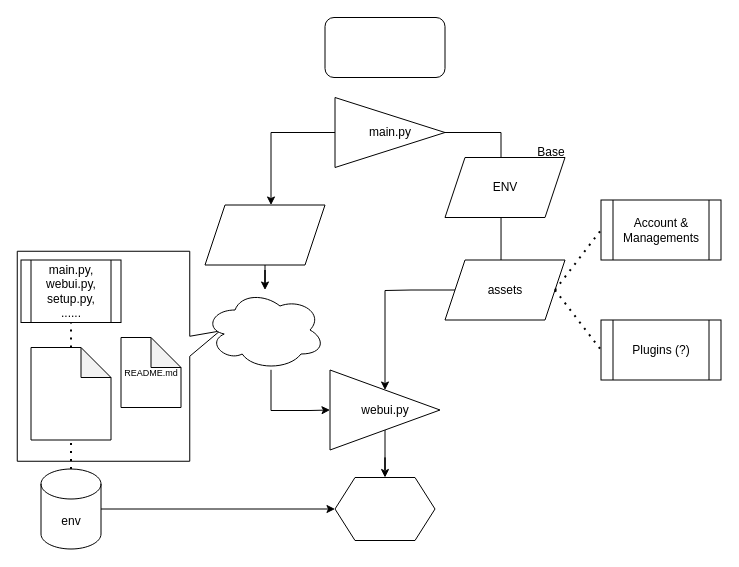
Some shapes in this 739 by 567 pixel diagram are drawn without their labels. Each missing label, with the box of its shape:
ColabStation: (324, 16, 445, 78)
Collection: (204, 204, 325, 265)
Git: (204, 289, 325, 370)
Local: (334, 476, 435, 540)
requirments.txt: (30, 346, 111, 440)
